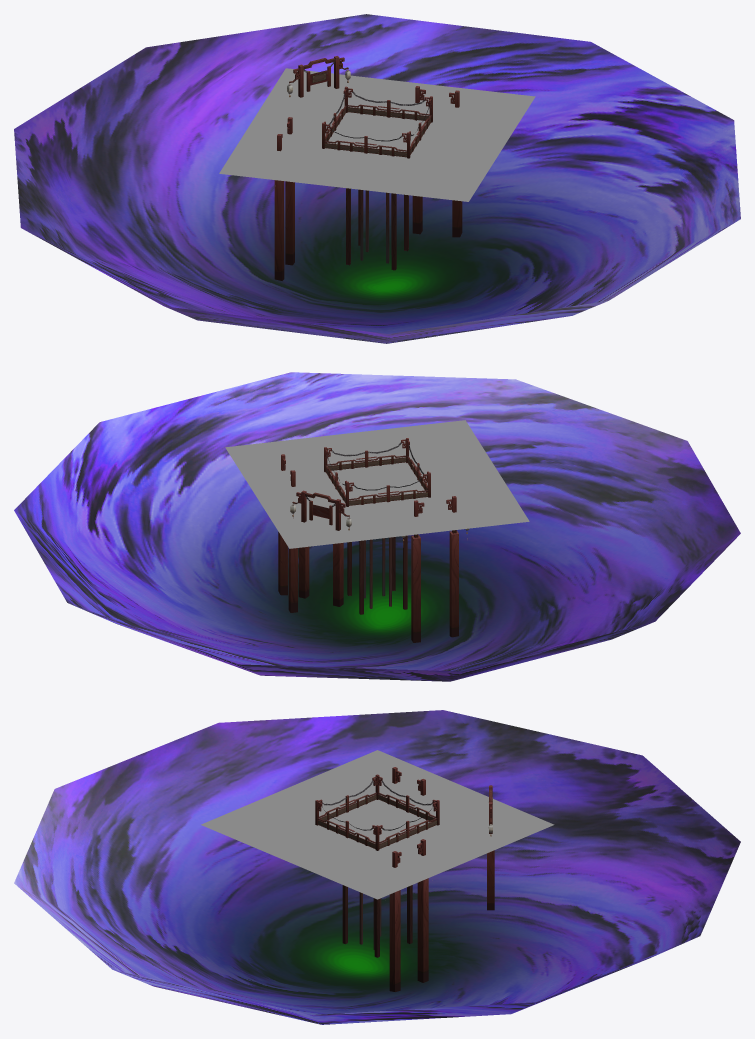
File: jingjichang_1.FBX
The picture shows the model from 3 angles, top to bottom: view 1: azimuth 30°, elevation 25°; view 2: azimuth 150°, elevation 25°; view 3: azimuth 270°, elevation 25°; orthographic projection. The views are drawn at different scales.
Parts seen in each view (by area): view 1: jingjichang_1_2_1, terrain, jingjichang_1_1_1; view 2: jingjichang_1_2_1, terrain, jingjichang_1_1_1; view 3: jingjichang_1_2_1, terrain, jingjichang_1_1_1.
Part boxes in pixels (<box>): jingjichang_1_2_1: <box>14,14,740,343</box>; terrain: <box>219,68,535,201</box>; jingjichang_1_1_1: <box>274,56,462,280</box>; jingjichang_1_2_1: <box>14,372,740,681</box>; terrain: <box>225,420,529,548</box>; jingjichang_1_1_1: <box>278,438,469,642</box>; jingjichang_1_2_1: <box>14,710,740,1024</box>; terrain: <box>201,750,554,899</box>; jingjichang_1_1_1: <box>315,767,494,991</box>.
Size of the model in its own units: 14408 by 3856 by 14513.
Materials: 2 (1 with a texture image).
